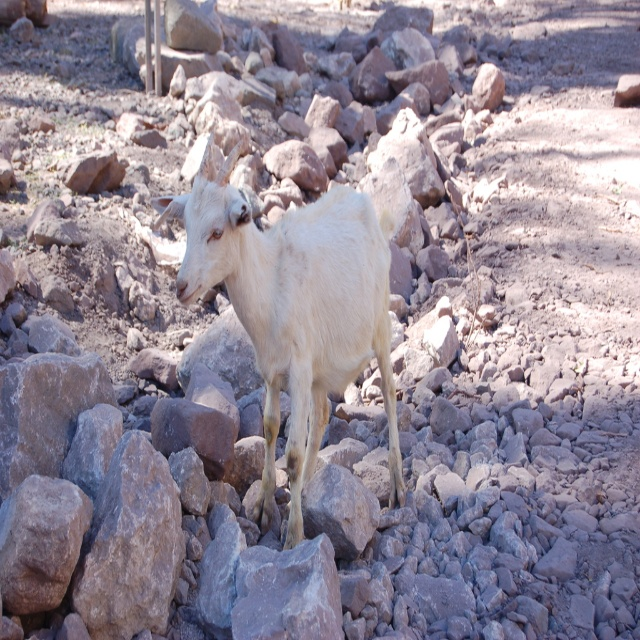Goat: (149, 130, 406, 551)
